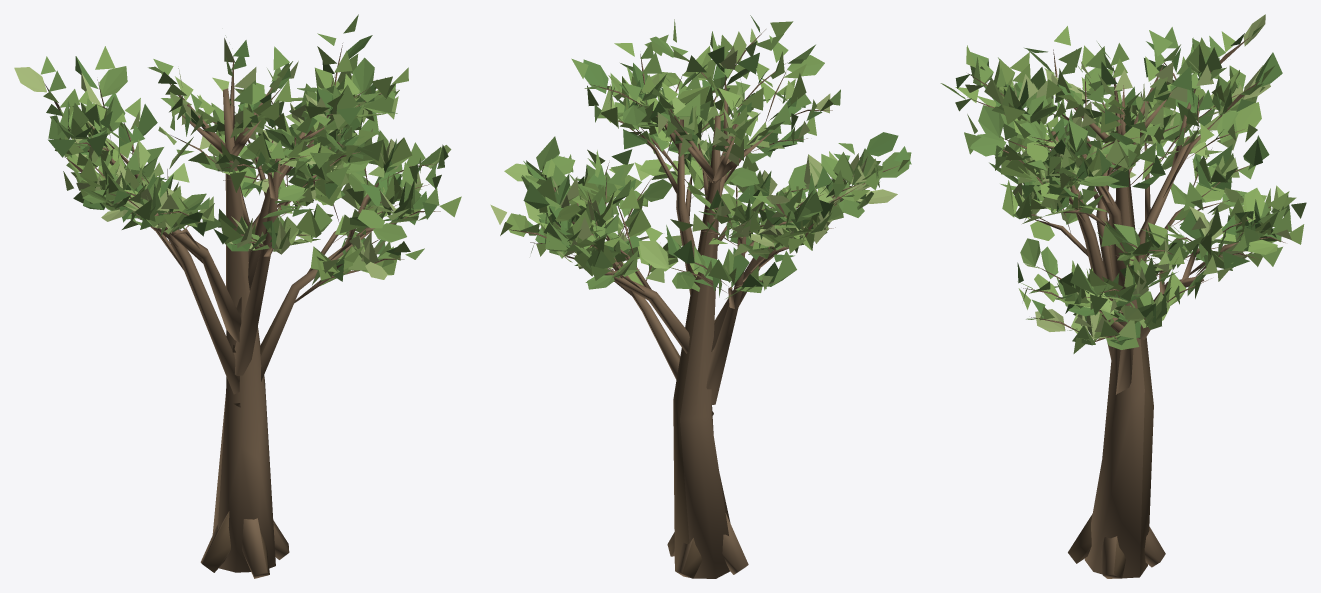
Rendered from tree_sapling_rebuilt_lod2.glb.
The picture shows the model from 3 angles, left to right: view 1: azimuth 30°, elevation 25°; view 2: azimuth 150°, elevation 25°; view 3: azimuth 270°, elevation 25°; orthographic projection. The views are drawn at different scales.
Parts seen in each view (by area): view 1: TREE_03_Young_Sapling__SCULPTED_LEAVES_NEW_V2, TREE_03_Young_Sapling__BARK_AND_BRANCHES_NEW_V2; view 2: TREE_03_Young_Sapling__SCULPTED_LEAVES_NEW_V2, TREE_03_Young_Sapling__BARK_AND_BRANCHES_NEW_V2; view 3: TREE_03_Young_Sapling__SCULPTED_LEAVES_NEW_V2, TREE_03_Young_Sapling__BARK_AND_BRANCHES_NEW_V2.
Boxes of the visible parts, <box> form: TREE_03_Young_Sapling__SCULPTED_LEAVES_NEW_V2: <box>14,14,461,286</box>; TREE_03_Young_Sapling__BARK_AND_BRANCHES_NEW_V2: <box>44,43,440,578</box>; TREE_03_Young_Sapling__SCULPTED_LEAVES_NEW_V2: <box>490,15,911,298</box>; TREE_03_Young_Sapling__BARK_AND_BRANCHES_NEW_V2: <box>509,29,899,578</box>; TREE_03_Young_Sapling__SCULPTED_LEAVES_NEW_V2: <box>940,14,1306,353</box>; TREE_03_Young_Sapling__BARK_AND_BRANCHES_NEW_V2: <box>967,37,1285,578</box>.
Bounding box in the file's own units: 1.82 × 2.29 × 1.48.
